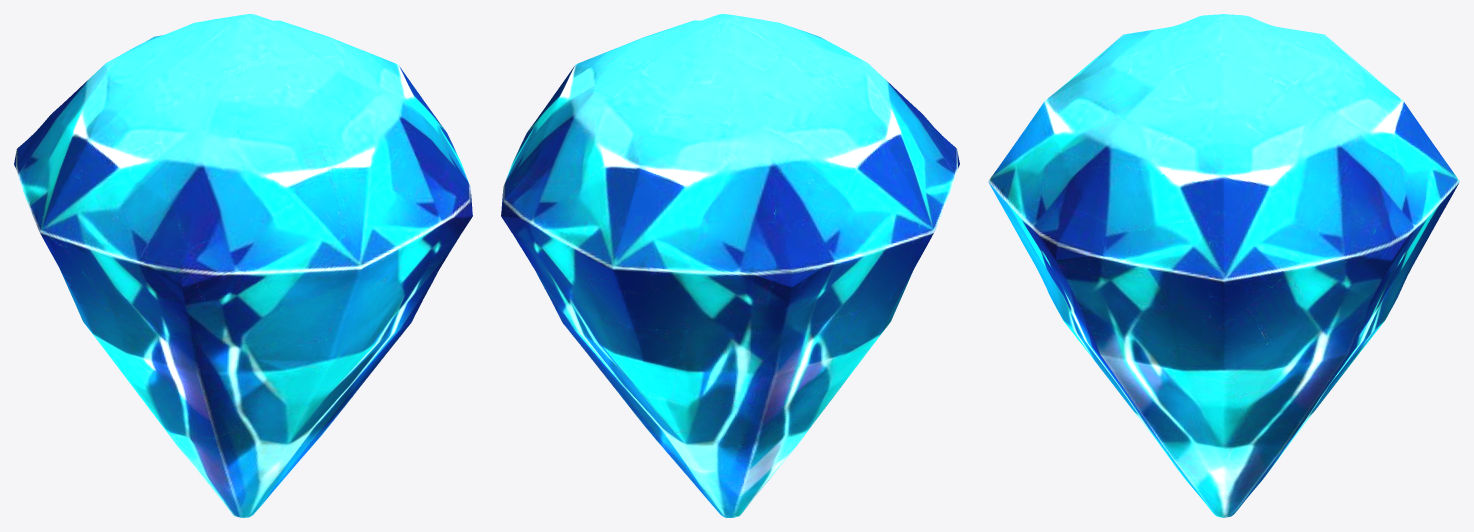
The model's file is gem.glb.
3 views of the same model, side by side, from view 1: azimuth 30°, elevation 25°; view 2: azimuth 150°, elevation 25°; view 3: azimuth 270°, elevation 25° (orthographic).
Bounding box in the file's own units: 1.62 × 1.9 × 1.63.
Materials: 1 (1 with a texture image).
